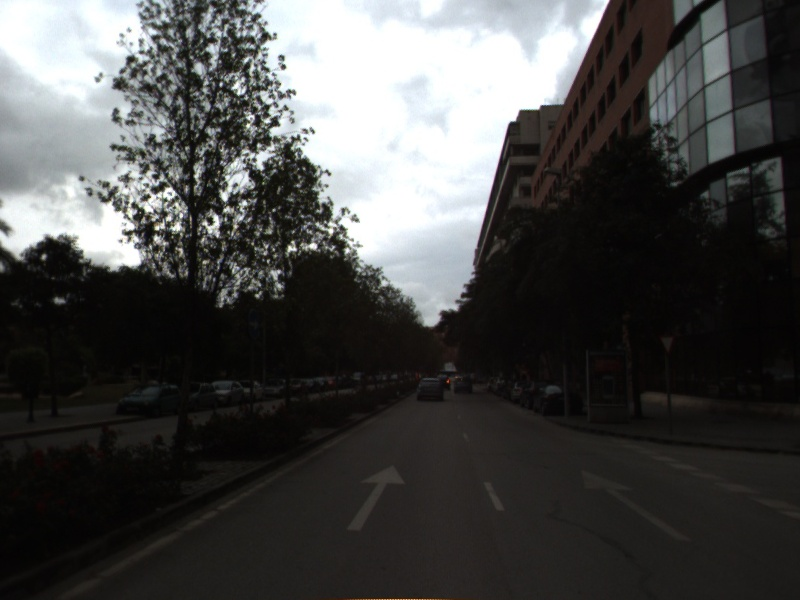STRAIGHT: (578, 467, 695, 545), (344, 462, 408, 533)
